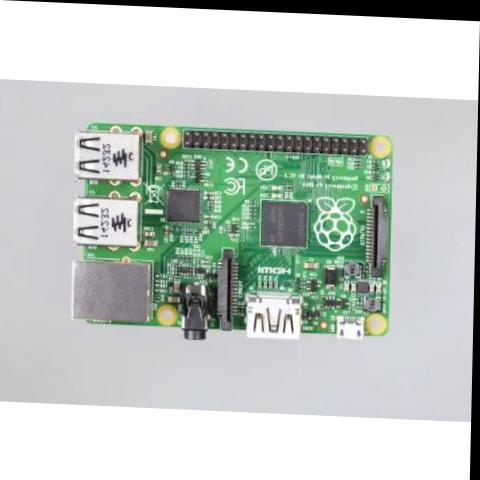Raspberry-Pi-1-Model-B-: (63, 110, 402, 352)
